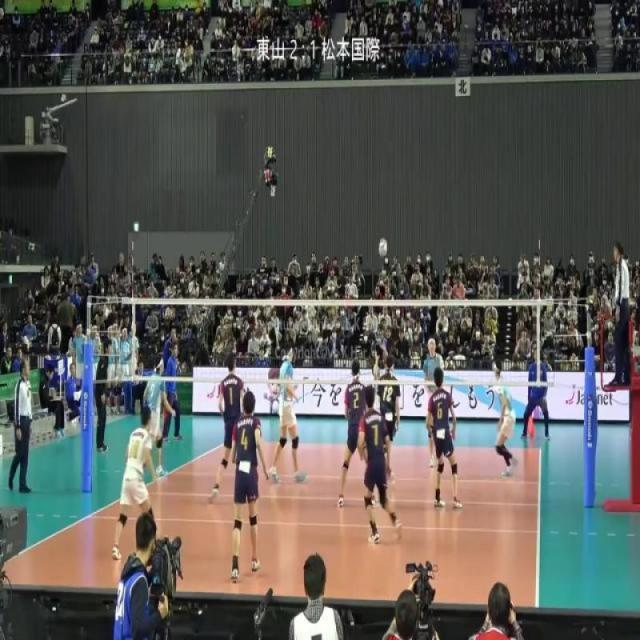volleyball: (378, 236, 388, 258)
